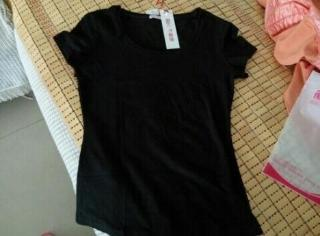short sleeve top: (53, 5, 263, 236)
